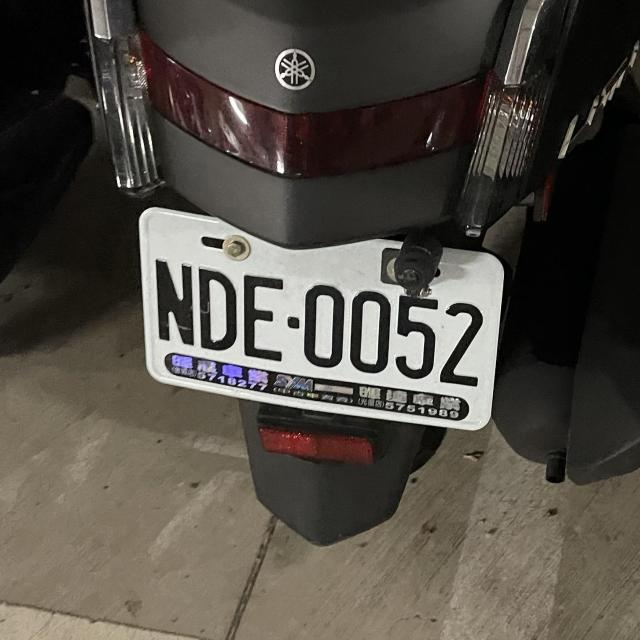W: (117, 216, 516, 427)
